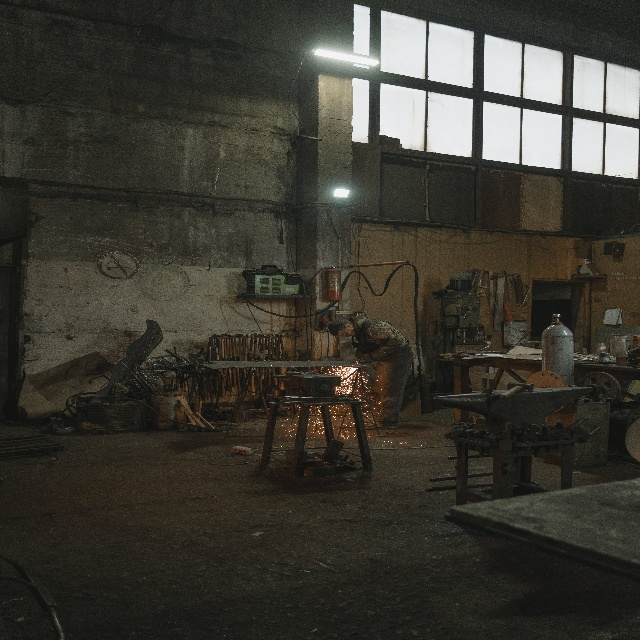Gafas: (339, 322, 348, 338)
Guantes: (359, 345, 388, 364)
